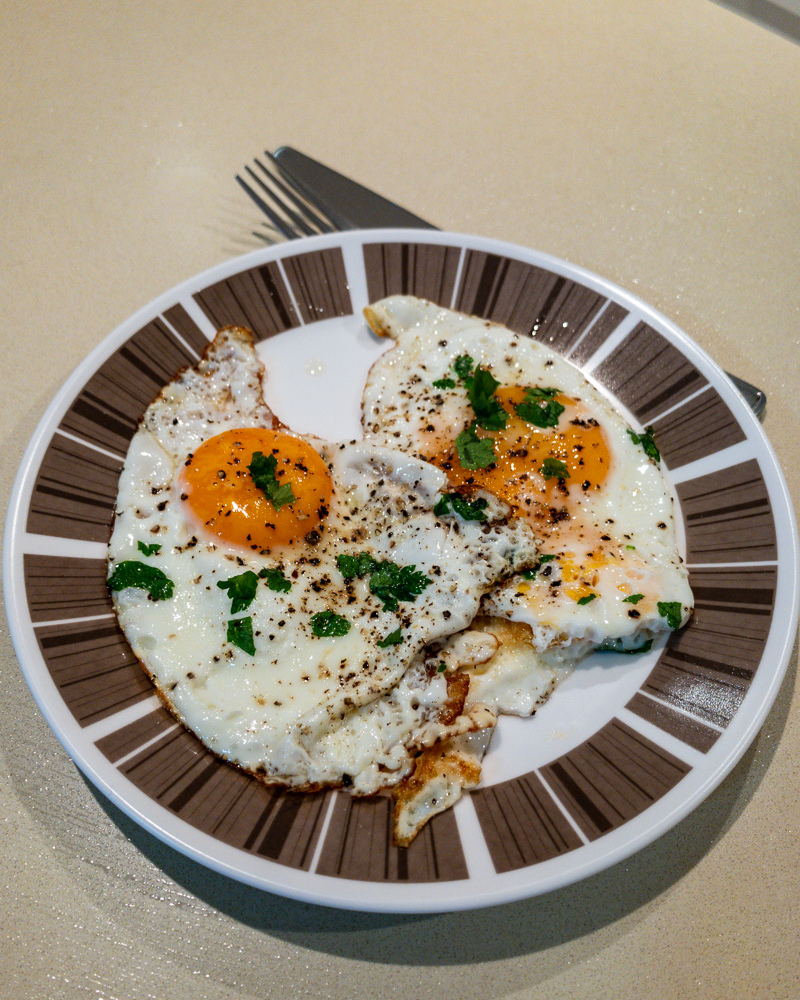fried egg: (114, 348, 492, 816), (376, 304, 698, 660)
